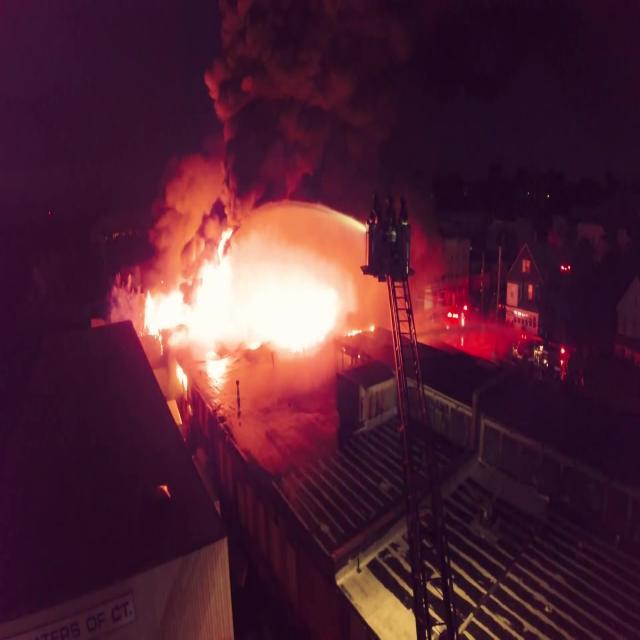Fire: (137, 248, 376, 403)
Smoke: (142, 0, 475, 250)
